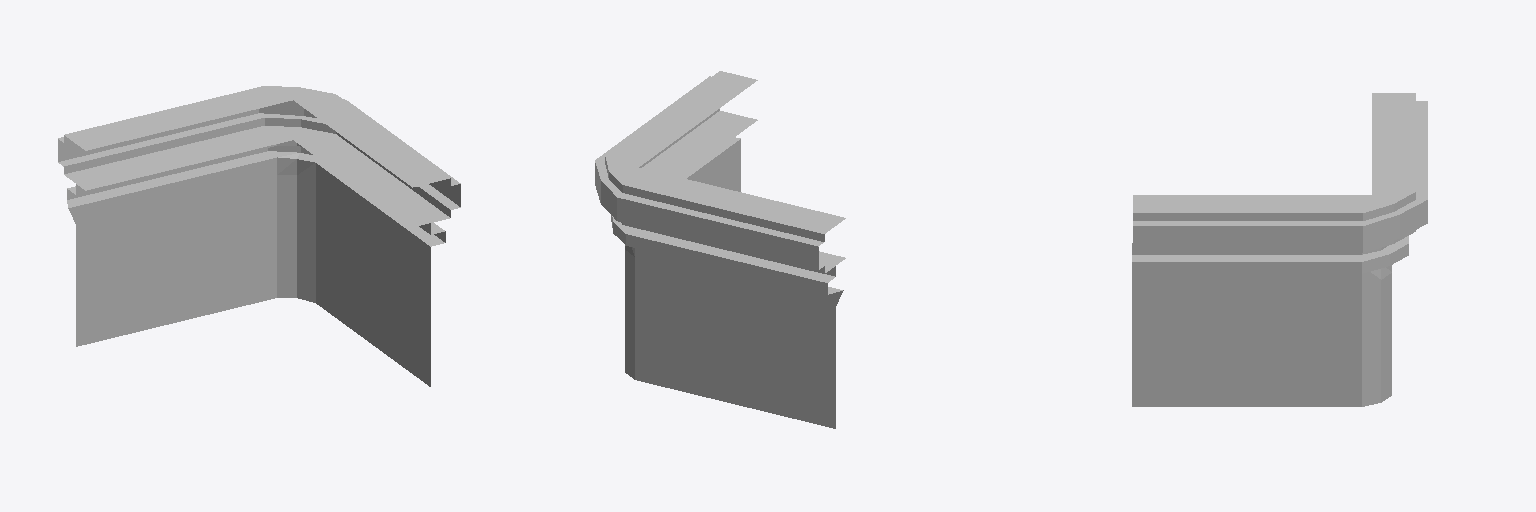
The model's file is Corner.obj.
The picture shows the model from 3 angles: view 1: azimuth 30°, elevation 25°; view 2: azimuth 150°, elevation 25°; view 3: azimuth 270°, elevation 25°; orthographic projection.
Visible parts, largest first — view 1: polySurface27; view 2: polySurface27; view 3: polySurface27.
Part boxes in pixels (left/top/right/bottom): polySurface27: left=58, top=86, right=460, bottom=386; polySurface27: left=595, top=71, right=845, bottom=428; polySurface27: left=1132, top=93, right=1427, bottom=406.
Bounding box in the file's own units: 621 × 459 × 604.